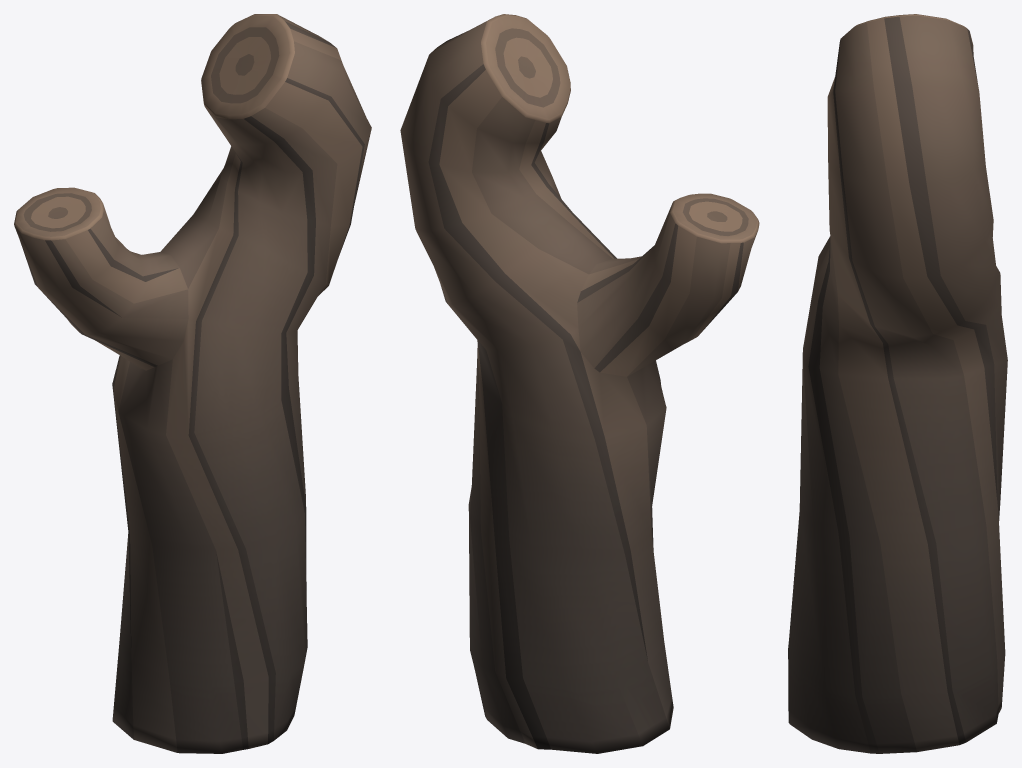
The model's file is elf_totem_pole_2.fbx.
3 views of the same model, side by side, from view 1: azimuth 30°, elevation 25°; view 2: azimuth 150°, elevation 25°; view 3: azimuth 270°, elevation 25° (orthographic). The views are drawn at different scales.
Parts seen in each view (by area): view 1: elf_totem_pole_2; view 2: elf_totem_pole_2; view 3: elf_totem_pole_2.
Part boxes in pixels (x1,y1,x2,y2): elf_totem_pole_2: (14,14,371,753); elf_totem_pole_2: (400,14,759,753); elf_totem_pole_2: (788,14,1007,753).
Size of the model in its own units: 313 by 595 by 159.
